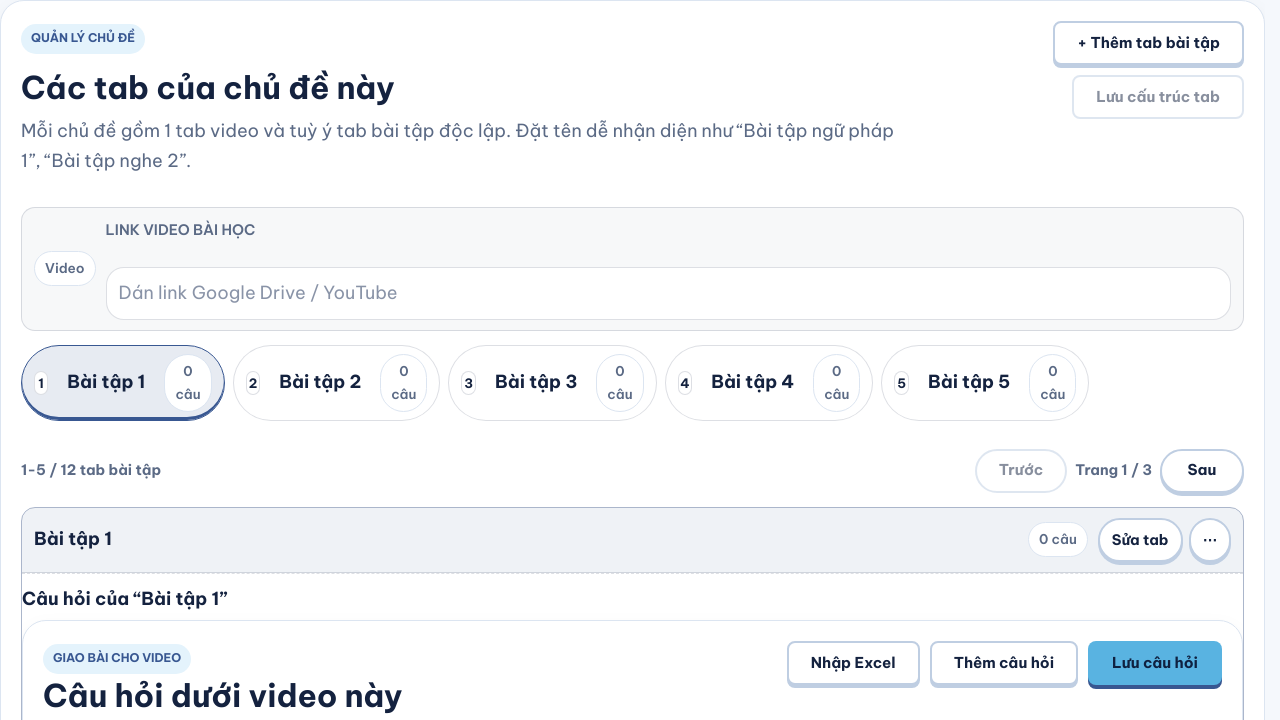
it: LessonTabManager — phân trang thanh tab › số thứ tự trên chip tính theo cả danh sách, không theo trang
Click the button "Sau" at (1202, 470), box left=1160, top=448, right=1244, bottom=492
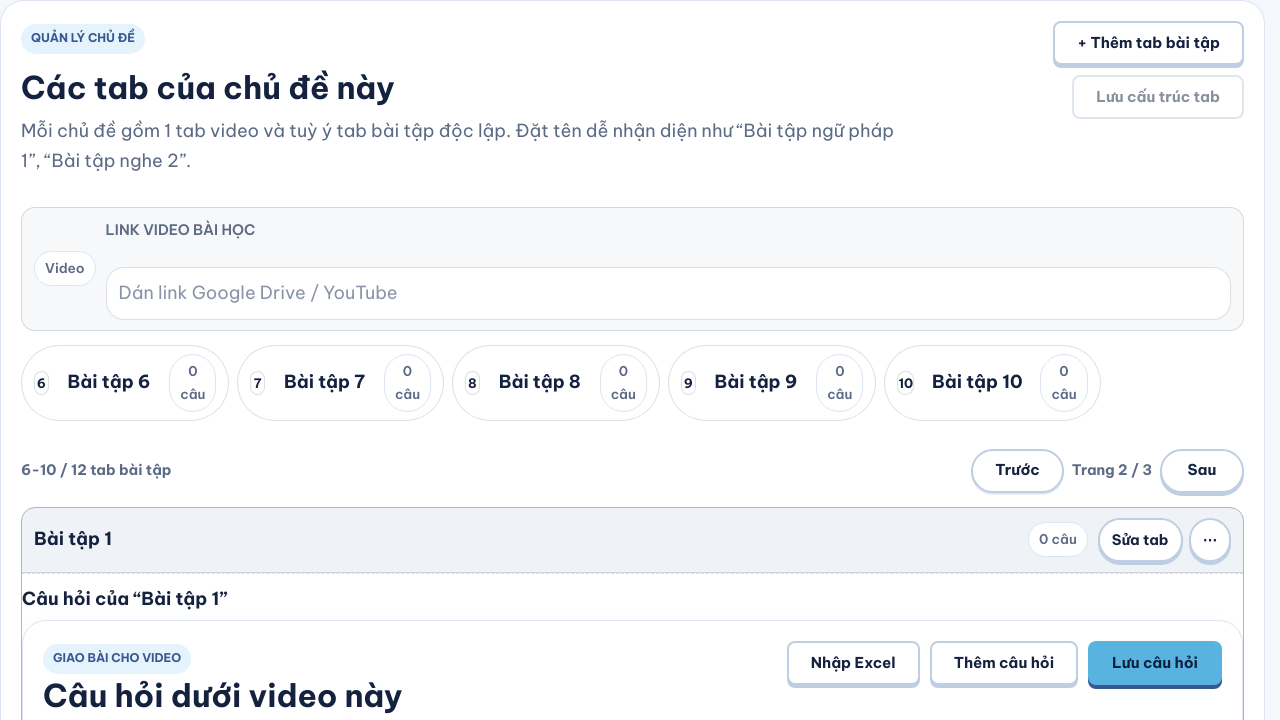
Expected: the text with class "lesson-tab-manager__pick" reads "6", left=37, top=375, right=46, bottom=391
